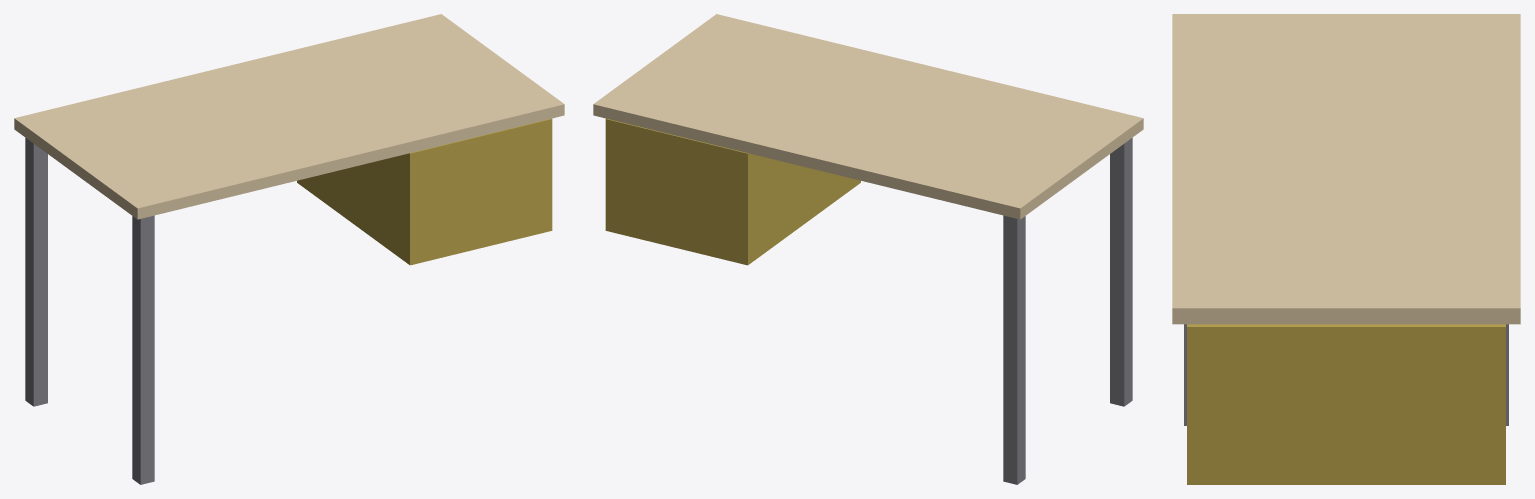
Rendered from desk.glb.
The picture shows the model from 3 angles, left to right: view 1: azimuth 30°, elevation 25°; view 2: azimuth 150°, elevation 25°; view 3: azimuth 270°, elevation 25°; orthographic projection. The views are drawn at different scales.
Visible parts, largest first — view 1: top, drawers, legs; view 2: top, drawers, legs; view 3: top, drawers, legs.
Part boxes in pixels (bbox=[...]): top: bbox=[14, 14, 564, 219]; drawers: bbox=[297, 118, 552, 265]; legs: bbox=[25, 138, 154, 484]; top: bbox=[593, 14, 1143, 219]; drawers: bbox=[605, 118, 860, 265]; legs: bbox=[1003, 138, 1132, 484]; top: bbox=[1172, 14, 1520, 324]; drawers: bbox=[1187, 324, 1505, 484]; legs: bbox=[1184, 324, 1508, 425].
Bounding box in the file's own units: 1.2 × 0.755 × 0.6.
